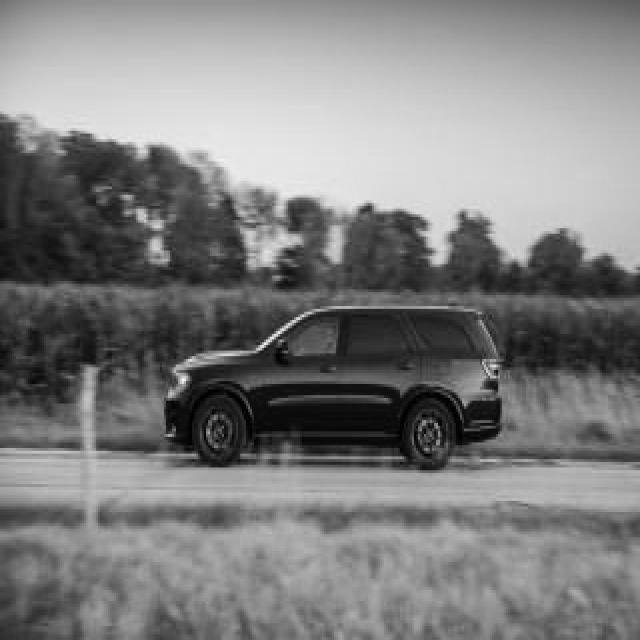Car: (165, 311, 501, 469)
